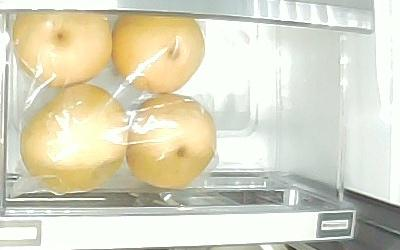pear_vinyl: (21, 83, 128, 192), (126, 94, 217, 189), (112, 14, 205, 95), (13, 12, 112, 88)
